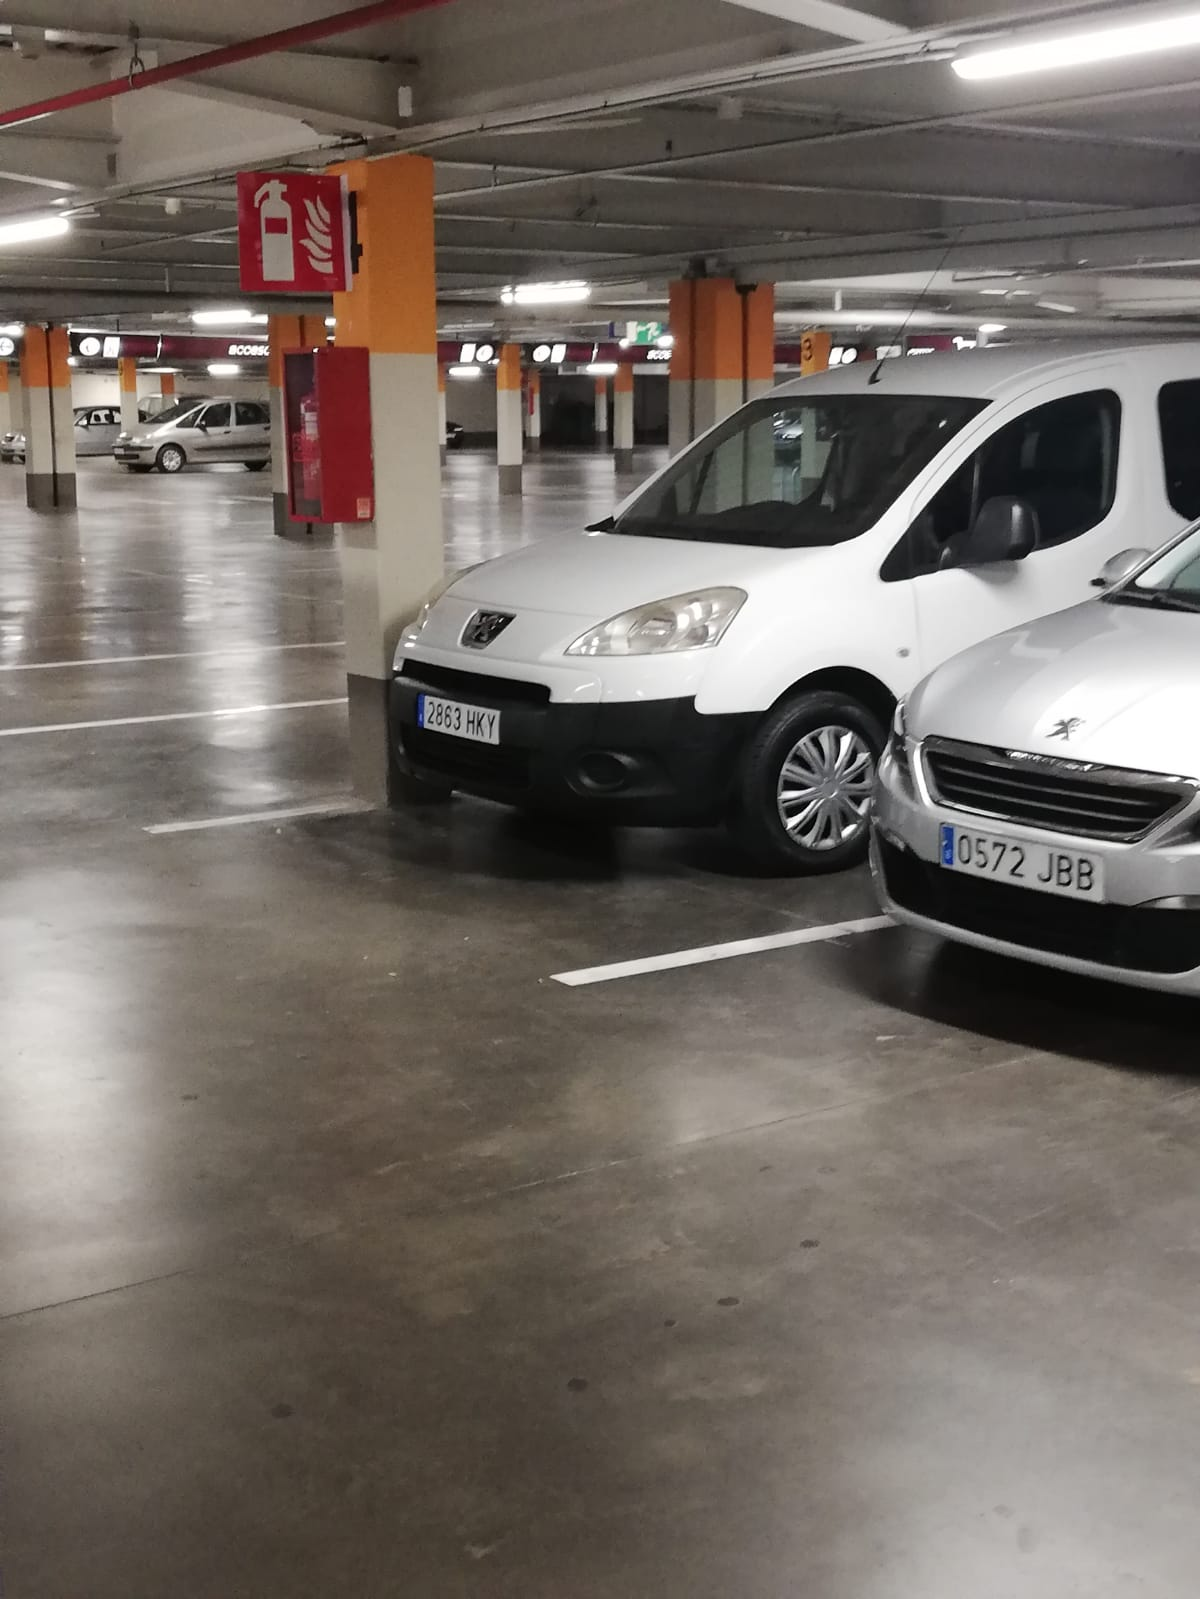Plate: (942, 822, 1105, 869), (420, 692, 504, 725)
